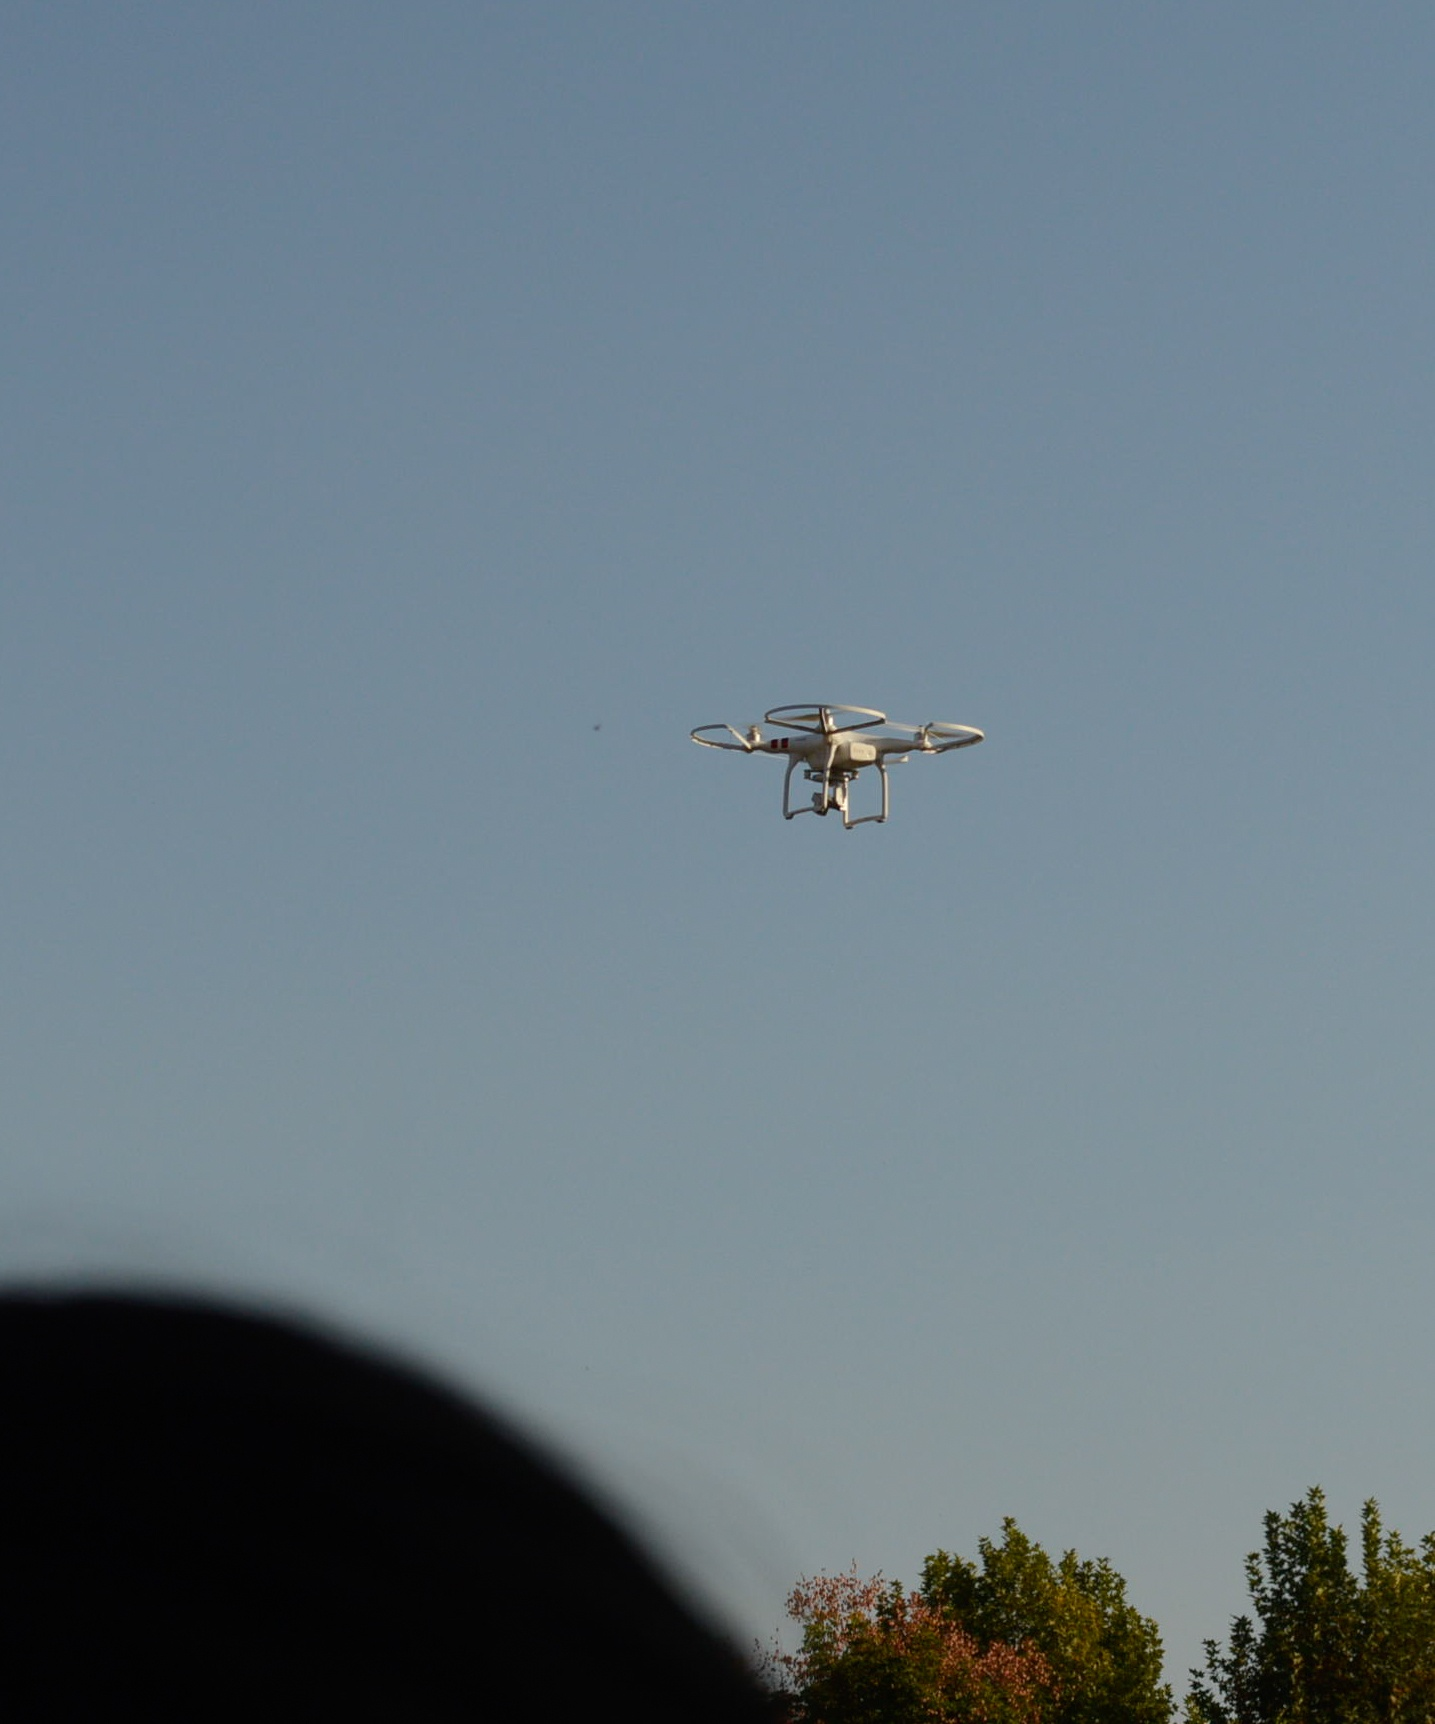DJI: (685, 697, 982, 838)
